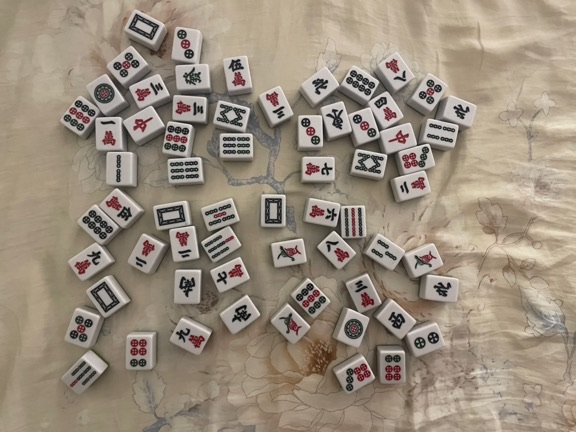b-1: (279, 313, 304, 337), (275, 242, 302, 264), (412, 250, 438, 271)
b-2: (112, 153, 124, 183)
b-3: (370, 239, 399, 263)
b-4: (426, 122, 456, 144)
b-5: (204, 203, 236, 227)
b-6: (221, 135, 251, 156), (170, 160, 200, 181)
b-7: (68, 360, 97, 390), (203, 234, 235, 259)
b-8: (216, 103, 247, 128), (354, 152, 384, 175)
b-9: (343, 207, 364, 237)
c-1: (99, 118, 118, 147)
c-2: (135, 239, 156, 268), (399, 176, 426, 195), (175, 231, 193, 259)
c-3: (264, 91, 287, 121), (134, 80, 164, 102), (353, 279, 374, 309), (175, 99, 205, 119)
c-4: (374, 96, 399, 122)
c-5: (106, 195, 133, 222), (227, 57, 247, 87)
c-6: (308, 203, 337, 224)
c-7: (215, 263, 245, 286), (305, 159, 334, 178)
c-8: (385, 57, 409, 84), (324, 239, 350, 263)
c-9: (73, 249, 102, 276), (175, 327, 206, 350)
d-1: (92, 82, 116, 104), (343, 318, 365, 341)
d-2: (414, 331, 440, 350)
d-3: (351, 113, 377, 139), (176, 29, 196, 60), (300, 117, 321, 146)
d-5: (112, 51, 140, 78), (418, 78, 443, 105), (69, 314, 93, 342)
d-6: (129, 337, 148, 368), (383, 353, 403, 382)
d-7: (345, 362, 371, 392), (402, 145, 430, 171)
d-8: (82, 209, 114, 240), (345, 69, 376, 97)
d-9: (295, 281, 327, 314), (63, 100, 96, 131), (164, 124, 189, 153)
honors-east: (326, 107, 345, 131)
honors-green: (182, 65, 203, 86)
honors-north: (431, 279, 454, 300), (311, 75, 329, 97), (450, 102, 472, 120)
honors-red: (131, 115, 154, 135), (387, 129, 411, 146)
honors-south: (177, 274, 198, 300), (230, 303, 253, 325)
honors-west: (387, 310, 407, 331)
honors-white: (89, 281, 120, 313), (127, 12, 160, 41), (155, 204, 187, 227), (264, 197, 283, 224)
